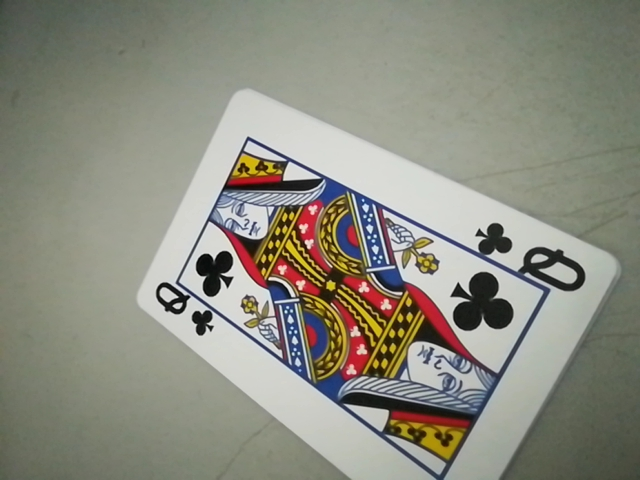mh q: (464, 220, 592, 286), (149, 278, 223, 338)
